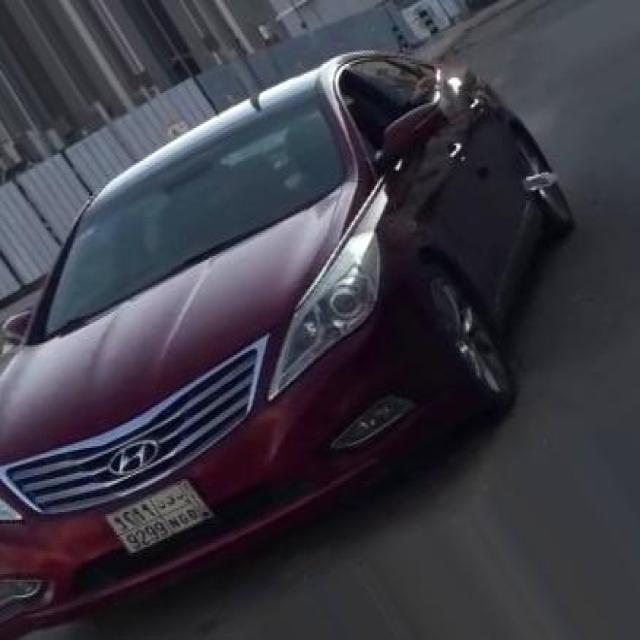Car-plate: (94, 473, 224, 565)
